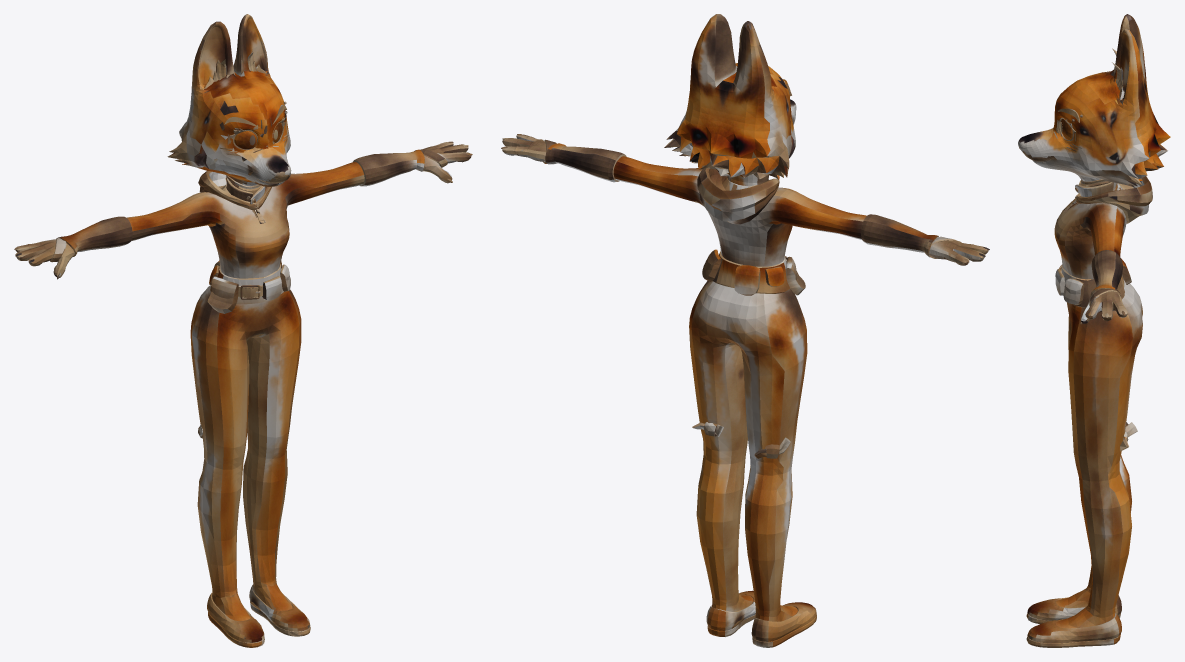
The model's file is textured_paint3d.glb.
The picture shows the model from 3 angles, left to right: view 1: azimuth 30°, elevation 25°; view 2: azimuth 150°, elevation 25°; view 3: azimuth 270°, elevation 25°; orthographic projection. The views are drawn at different scales.
Visible parts, largest first — view 1: Node-Mesh; view 2: Node-Mesh; view 3: Node-Mesh.
Boxes of the visible parts, box(x1,y1,x2,y2) form: Node-Mesh: box(14, 14, 472, 647); Node-Mesh: box(501, 14, 989, 647); Node-Mesh: box(1018, 14, 1170, 647).
Size of the model in its own units: 1.61 by 2 by 0.4562.
1 material, 1 textured.
